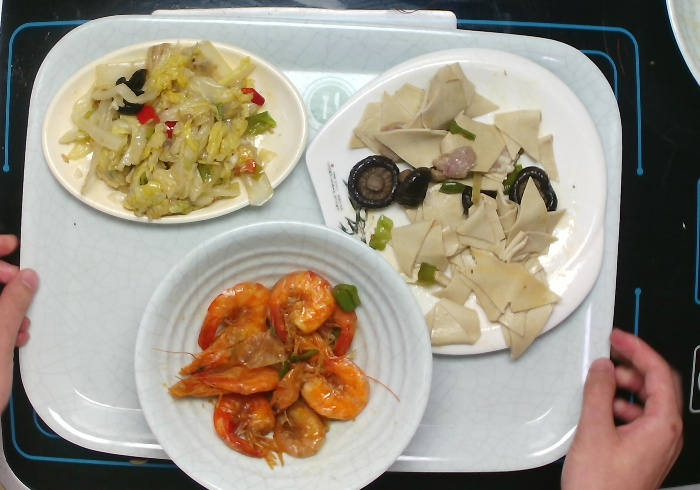JYsf-Mian_Pan: (302, 42, 612, 361)
JYsf-Tuo_Yuan_Wan: (37, 35, 311, 230)
JYsf-Xiao_Tang_Wan: (130, 215, 436, 490)
